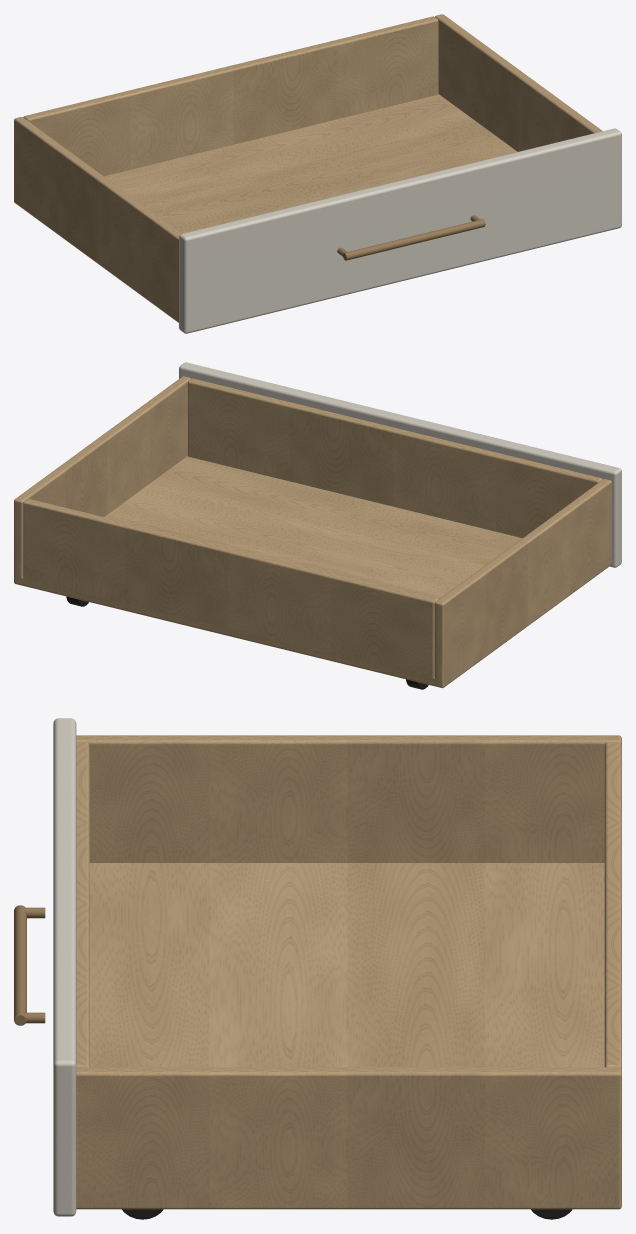
The model's file is low-store-storage-drawer.glb.
3 views of the same model, one above another, from view 1: azimuth 30°, elevation 25°; view 2: azimuth 150°, elevation 25°; view 3: azimuth 270°, elevation 25° (orthographic). The views are drawn at different scales.
Parts seen in each view (by area): view 1: Ivory drawer fascia, Underbed shallow drawer side.001, Underbed shallow drawer floor, Underbed shallow drawer end, Underbed shallow drawer end.001, Low storage drawer pull | grip; view 2: Underbed shallow drawer side.001, Underbed shallow drawer floor, Underbed shallow drawer side, Underbed shallow drawer end, Underbed shallow drawer end.001, Ivory drawer fascia; view 3: Underbed shallow drawer floor, Underbed shallow drawer end.001, Underbed shallow drawer end, Ivory drawer fascia, Underbed shallow drawer side.001, Underbed shallow drawer side, Low storage drawer pull | grip.
Part boxes in pixels (box(x1,y1,x2,y2)): Ivory drawer fascia: box(179, 128, 621, 333); Underbed shallow drawer side.001: box(23, 16, 438, 176); Underbed shallow drawer floor: box(14, 94, 517, 322); Underbed shallow drawer end: box(14, 117, 181, 321); Underbed shallow drawer end.001: box(435, 14, 602, 151); Low storage drawer pull | grip: box(343, 219, 485, 260); Underbed shallow drawer side.001: box(23, 498, 438, 685); Underbed shallow drawer floor: box(14, 456, 611, 688); Underbed shallow drawer side: box(188, 378, 602, 537); Underbed shallow drawer end: box(434, 479, 611, 687); Underbed shallow drawer end.001: box(14, 376, 190, 585); Ivory drawer fascia: box(179, 362, 621, 567); Underbed shallow drawer floor: box(76, 863, 621, 1209); Underbed shallow drawer end.001: box(76, 1067, 621, 1209); Underbed shallow drawer end: box(76, 735, 621, 862); Ivory drawer fascia: box(53, 718, 76, 1216); Underbed shallow drawer side.001: box(604, 742, 621, 1069); Underbed shallow drawer side: box(76, 742, 89, 1067); Low storage drawer pull | grip: box(14, 905, 26, 1025).
Bounding box in the file's own units: 0.756 × 0.1955 × 0.562.
Materials: 5 (5 with a texture image).
